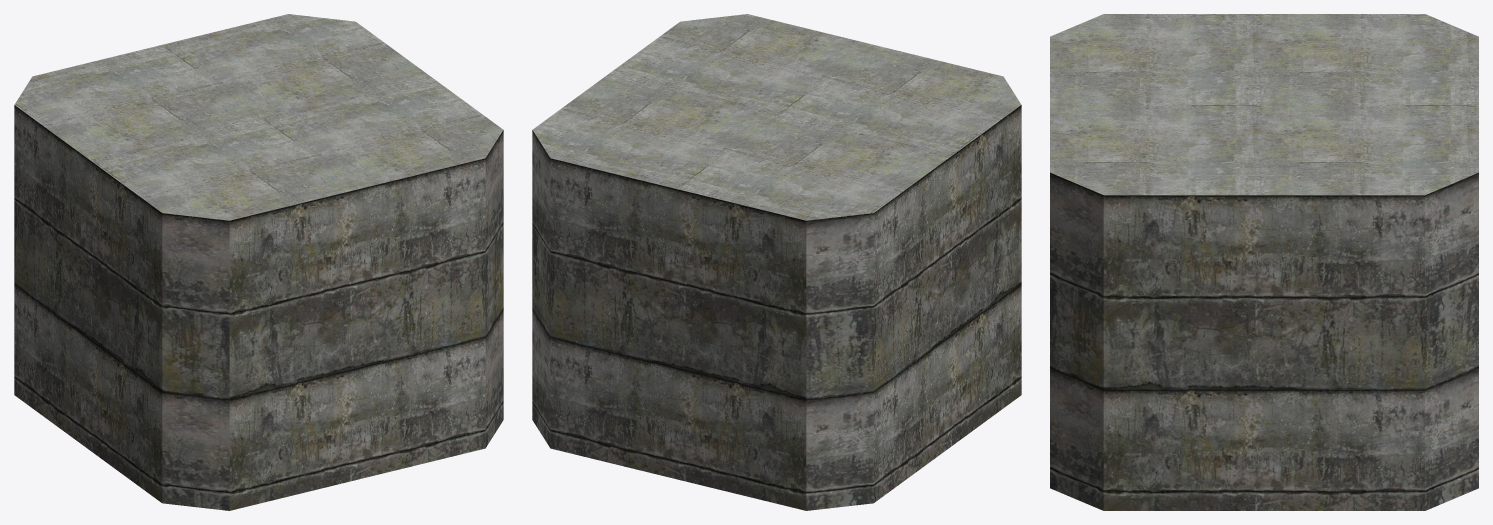
The model's file is Smallblock.fbx.
3 views of the same model, side by side, from view 1: azimuth 30°, elevation 25°; view 2: azimuth 150°, elevation 25°; view 3: azimuth 270°, elevation 25° (orthographic). The views are drawn at different scales.
Visible parts, largest first — view 1: Object; view 2: Object; view 3: Object.
Boxes of the visible parts, x1,y1,x2,y2 form: Object: [14, 14, 503, 510]; Object: [532, 14, 1021, 510]; Object: [1050, 14, 1478, 510].
Size of the model in its own units: 3200 by 2600 by 3200.
